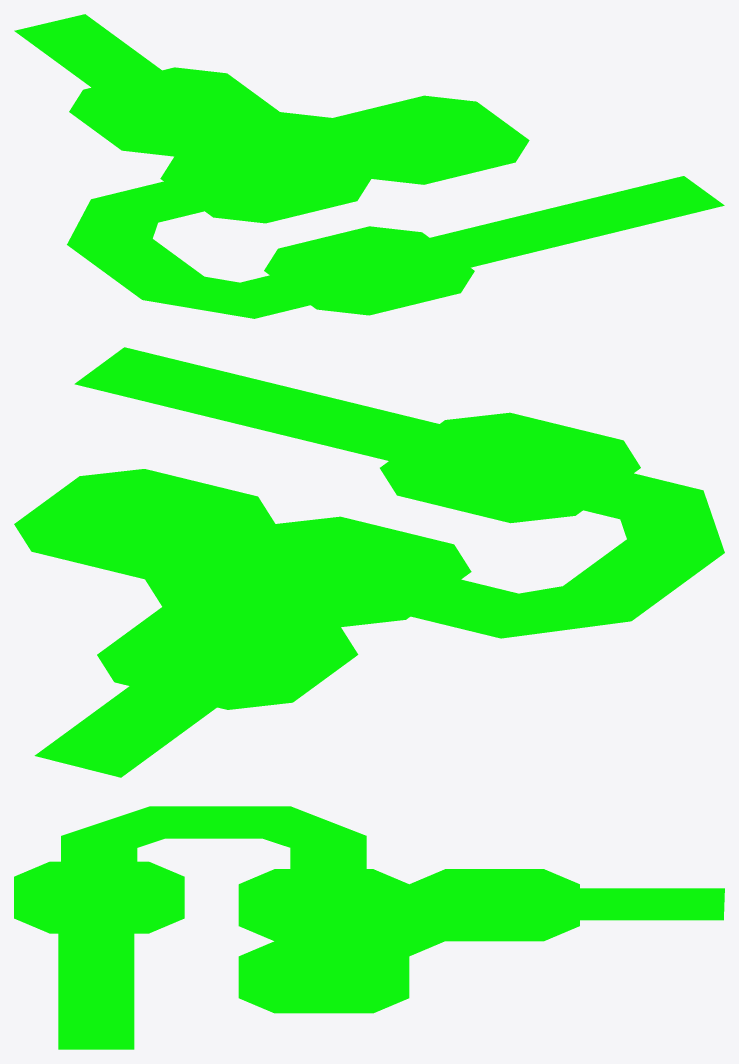
The model's file is s02a_lc1-floor.glb.
3 views of the same model, one above another, from view 1: azimuth 30°, elevation 25°; view 2: azimuth 150°, elevation 25°; view 3: azimuth 270°, elevation 25° (orthographic). The views are drawn at different scales.
Parts seen in each view (by area): view 1: collision_floor-colonly; view 2: collision_floor-colonly; view 3: collision_floor-colonly.
Part boxes in pixels (x1,y1,x2,y2): collision_floor-colonly: [14, 14, 724, 318]; collision_floor-colonly: [14, 347, 724, 777]; collision_floor-colonly: [14, 806, 724, 1049].
Bounding box in the file's own units: 45.32 × 0 × 55.96.
